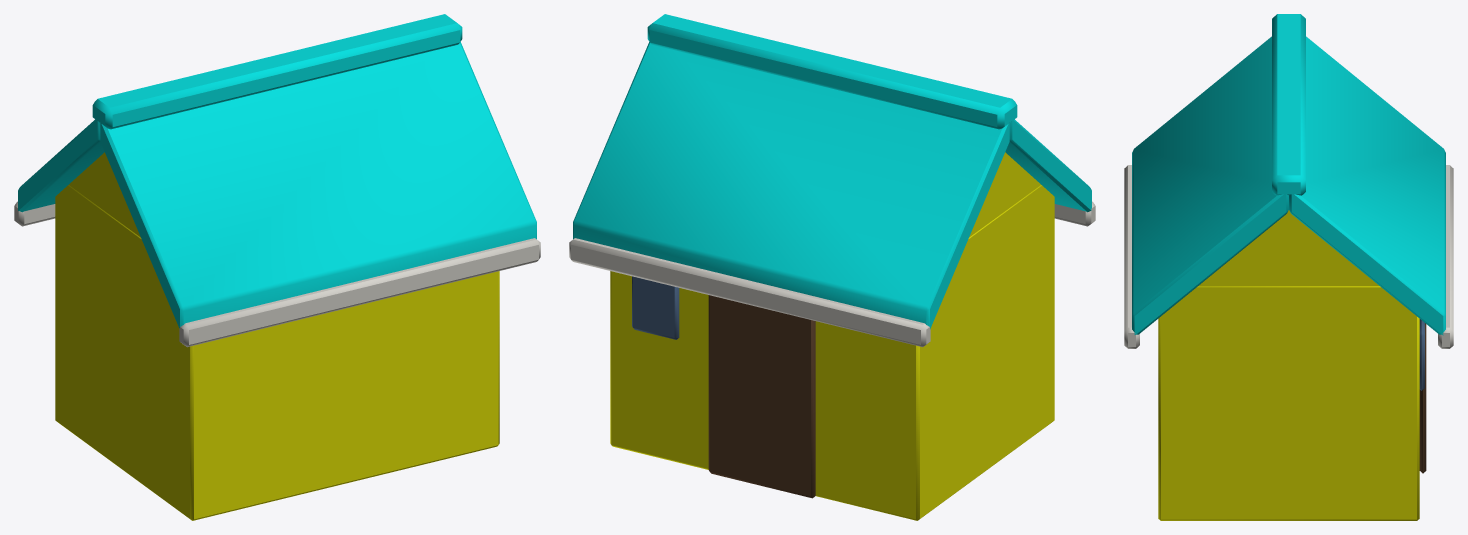
File: Shed.fbx
3 renders of one model, left to right at view 1: azimuth 30°, elevation 25°; view 2: azimuth 150°, elevation 25°; view 3: azimuth 270°, elevation 25°, orthographic. The views are drawn at different scales.
Visible parts, largest first — view 1: Shed; view 2: Shed; view 3: Shed.
Boxes of the visible parts, box(x1,y1,x2,y2) form: Shed: box(14, 14, 540, 520); Shed: box(569, 14, 1095, 520); Shed: box(1124, 14, 1453, 520).
Size of the model in its own units: 3 by 3 by 2.52.
